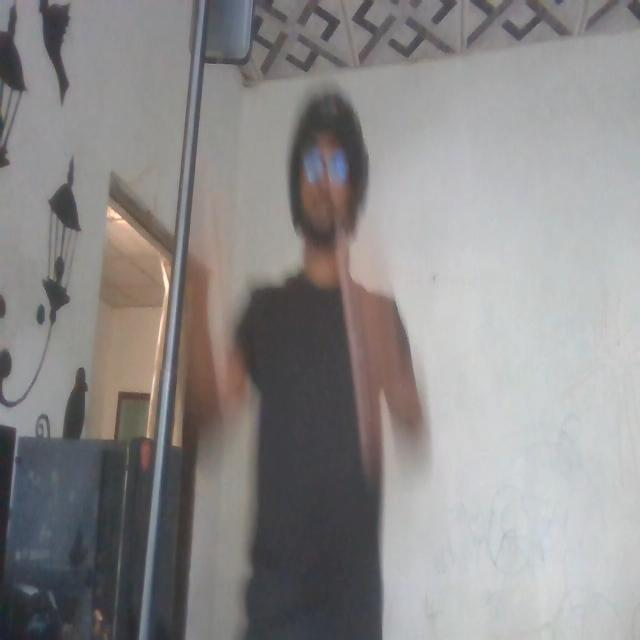Helmet_Wearer: (279, 80, 371, 253)
Person: (224, 74, 396, 638)
